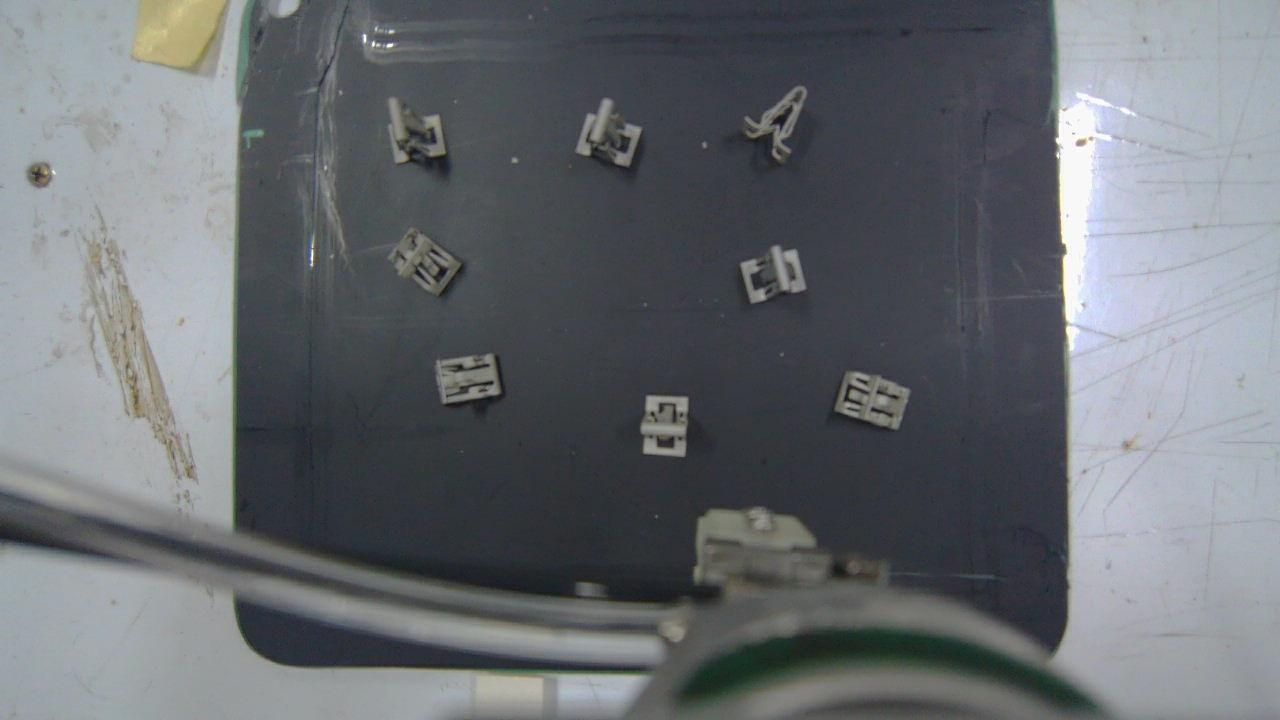ng: (384, 226, 462, 299), (742, 87, 806, 166), (576, 98, 641, 169), (834, 369, 908, 430), (386, 99, 445, 160), (437, 352, 503, 403)
pass: (738, 247, 808, 307), (639, 394, 688, 458)
